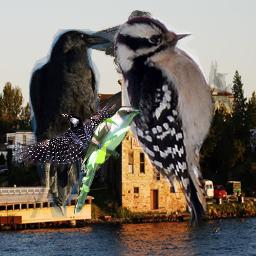Crow: (29, 29, 114, 218), (70, 10, 153, 78)
Cuckoo: (74, 106, 144, 214)
Woodpecker: (114, 16, 239, 229), (12, 99, 116, 176)
